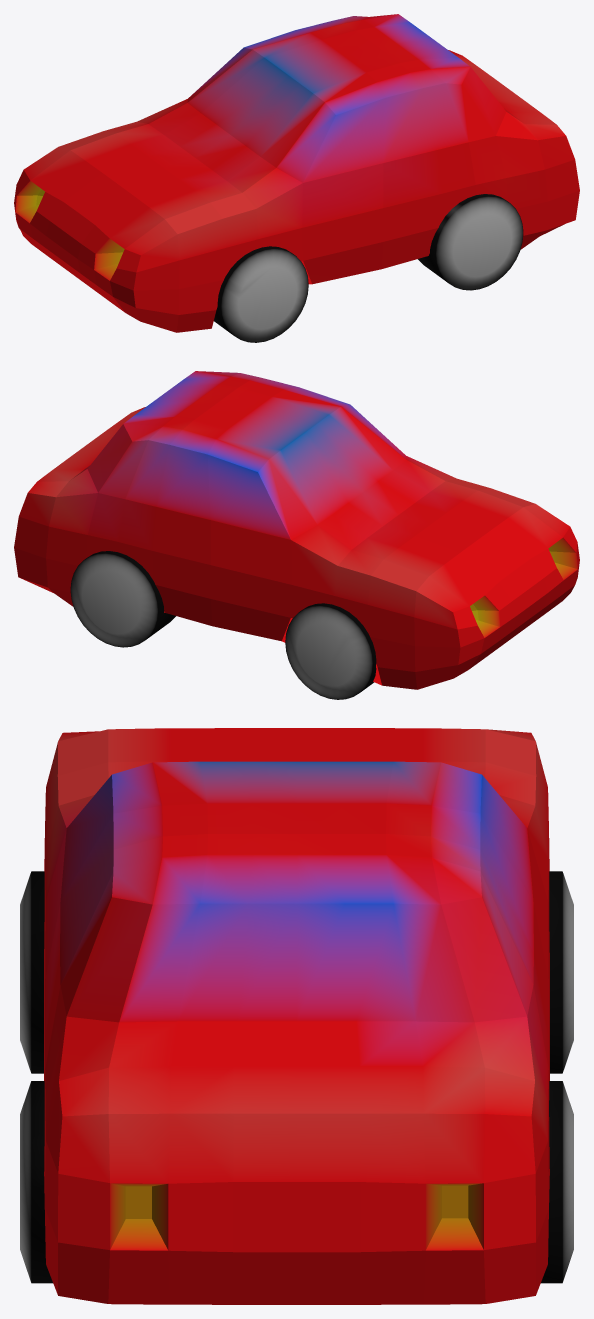
File: toy_car.fbx
3 renders of one model, top to bottom at view 1: azimuth 30°, elevation 25°; view 2: azimuth 150°, elevation 25°; view 3: azimuth 270°, elevation 25°, orthographic. The views are drawn at different scales.
Parts seen in each view (by area): view 1: Cylinder.001; view 2: Cylinder.001; view 3: Cylinder.001.
Boxes of the visible parts, left/top/right/bottom form: Cylinder.001: left=14, top=14, right=579, bottom=342; Cylinder.001: left=14, top=371, right=579, bottom=699; Cylinder.001: left=20, top=728, right=573, bottom=1304.
Bounding box in the file's own units: 428 × 177 × 219.
